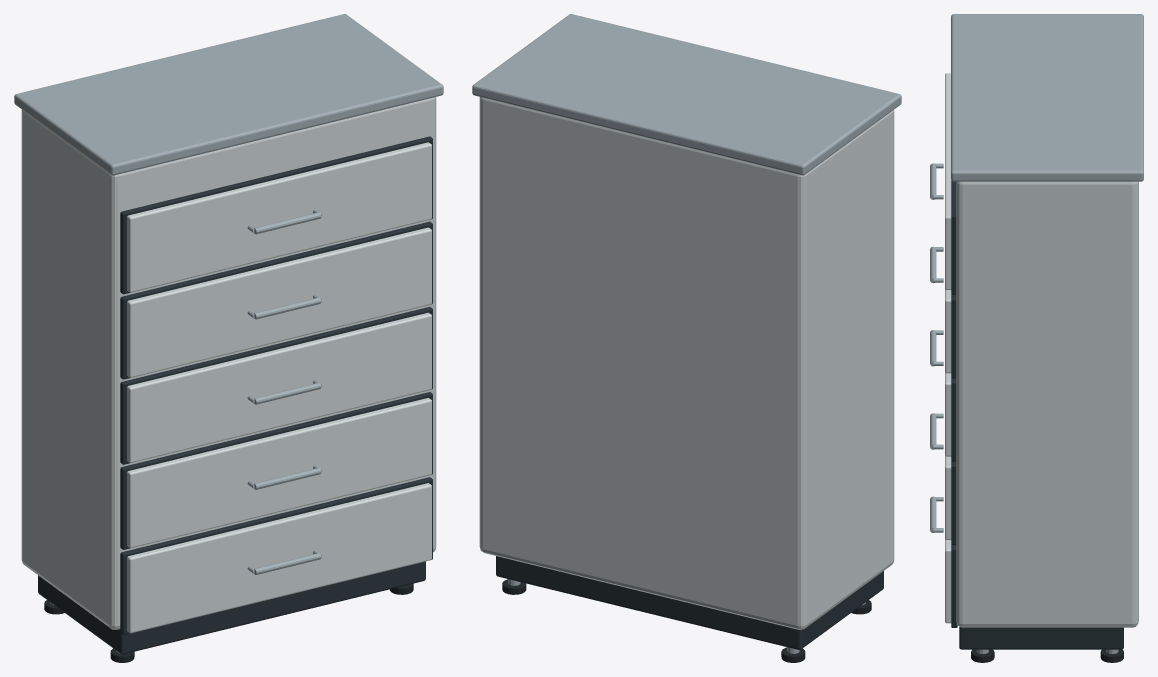
File: RD_MedicationCabinet.fbx
3 renders of one model, left to right at view 1: azimuth 30°, elevation 25°; view 2: azimuth 150°, elevation 25°; view 3: azimuth 270°, elevation 25°, orthographic. The views are drawn at different scales.
Visible parts, largest first — view 1: RD_MedicationCabinet; view 2: RD_MedicationCabinet; view 3: RD_MedicationCabinet.
Part boxes in pixels (bbox=[...]): RD_MedicationCabinet: bbox=[14, 14, 443, 662]; RD_MedicationCabinet: bbox=[472, 14, 901, 662]; RD_MedicationCabinet: bbox=[930, 14, 1143, 662].
Bounding box in the file's own units: 128 × 187 × 72.65.
